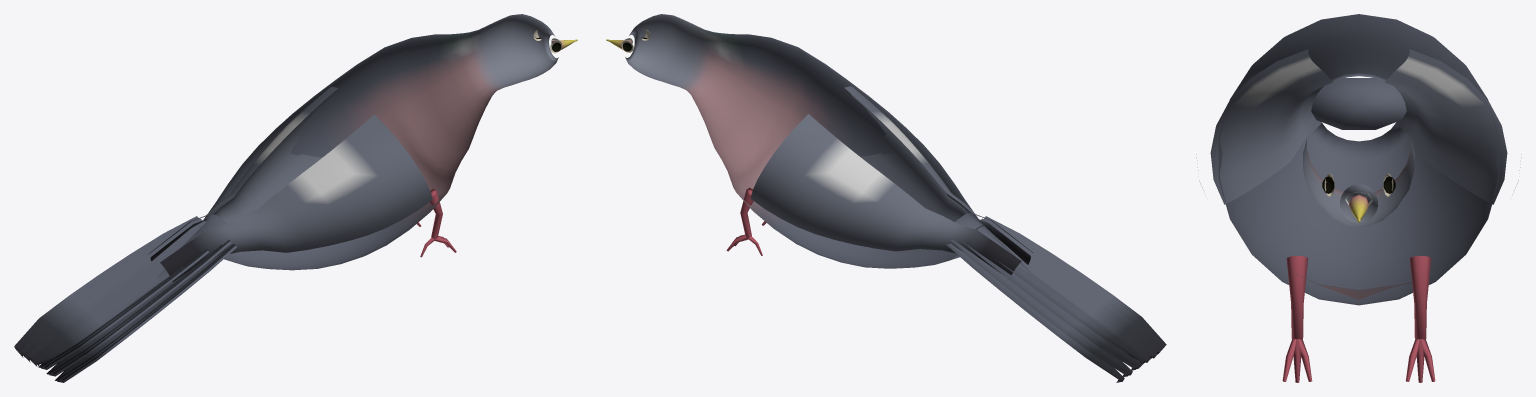
Rendered from SM_Bird_wood_pigeon_perch.glb.
3 renders of one model, left to right at view 1: azimuth 30°, elevation 25°; view 2: azimuth 150°, elevation 25°; view 3: azimuth 270°, elevation 25°, orthographic. The views are drawn at different scales.
Visible parts, largest first — view 1: SM_Bird_wood_pigeon_perch; view 2: SM_Bird_wood_pigeon_perch; view 3: SM_Bird_wood_pigeon_perch.
Part boxes in pixels (x1,y1,x2,y2): SM_Bird_wood_pigeon_perch: (14, 14, 577, 382); SM_Bird_wood_pigeon_perch: (606, 14, 1166, 382); SM_Bird_wood_pigeon_perch: (1196, 14, 1521, 382).
Size of the model in its own units: 0.4289 by 0.1796 by 0.1279.
